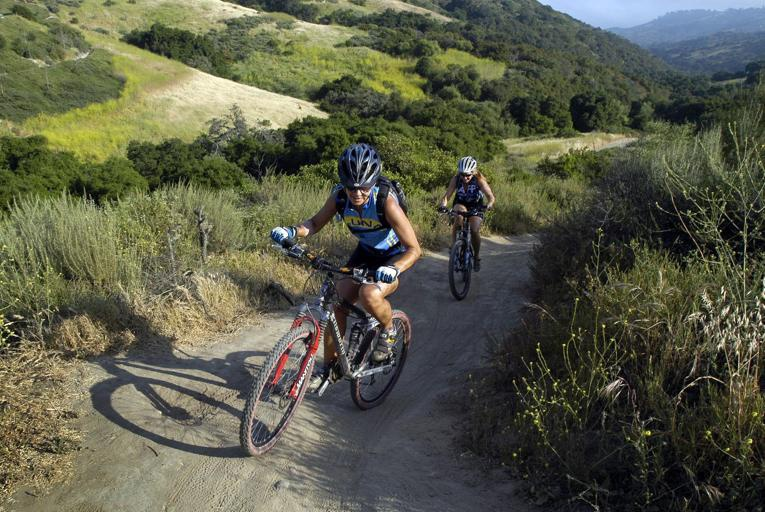non-vehicle: (239, 228, 410, 456), (438, 206, 488, 300)
